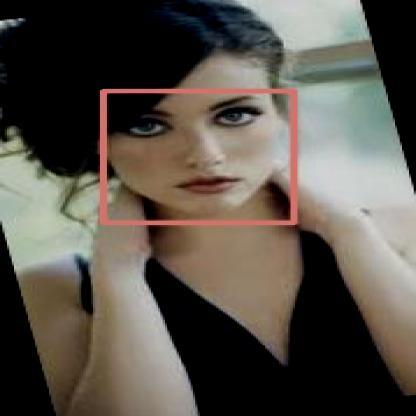without_mask: (102, 90, 293, 222)
